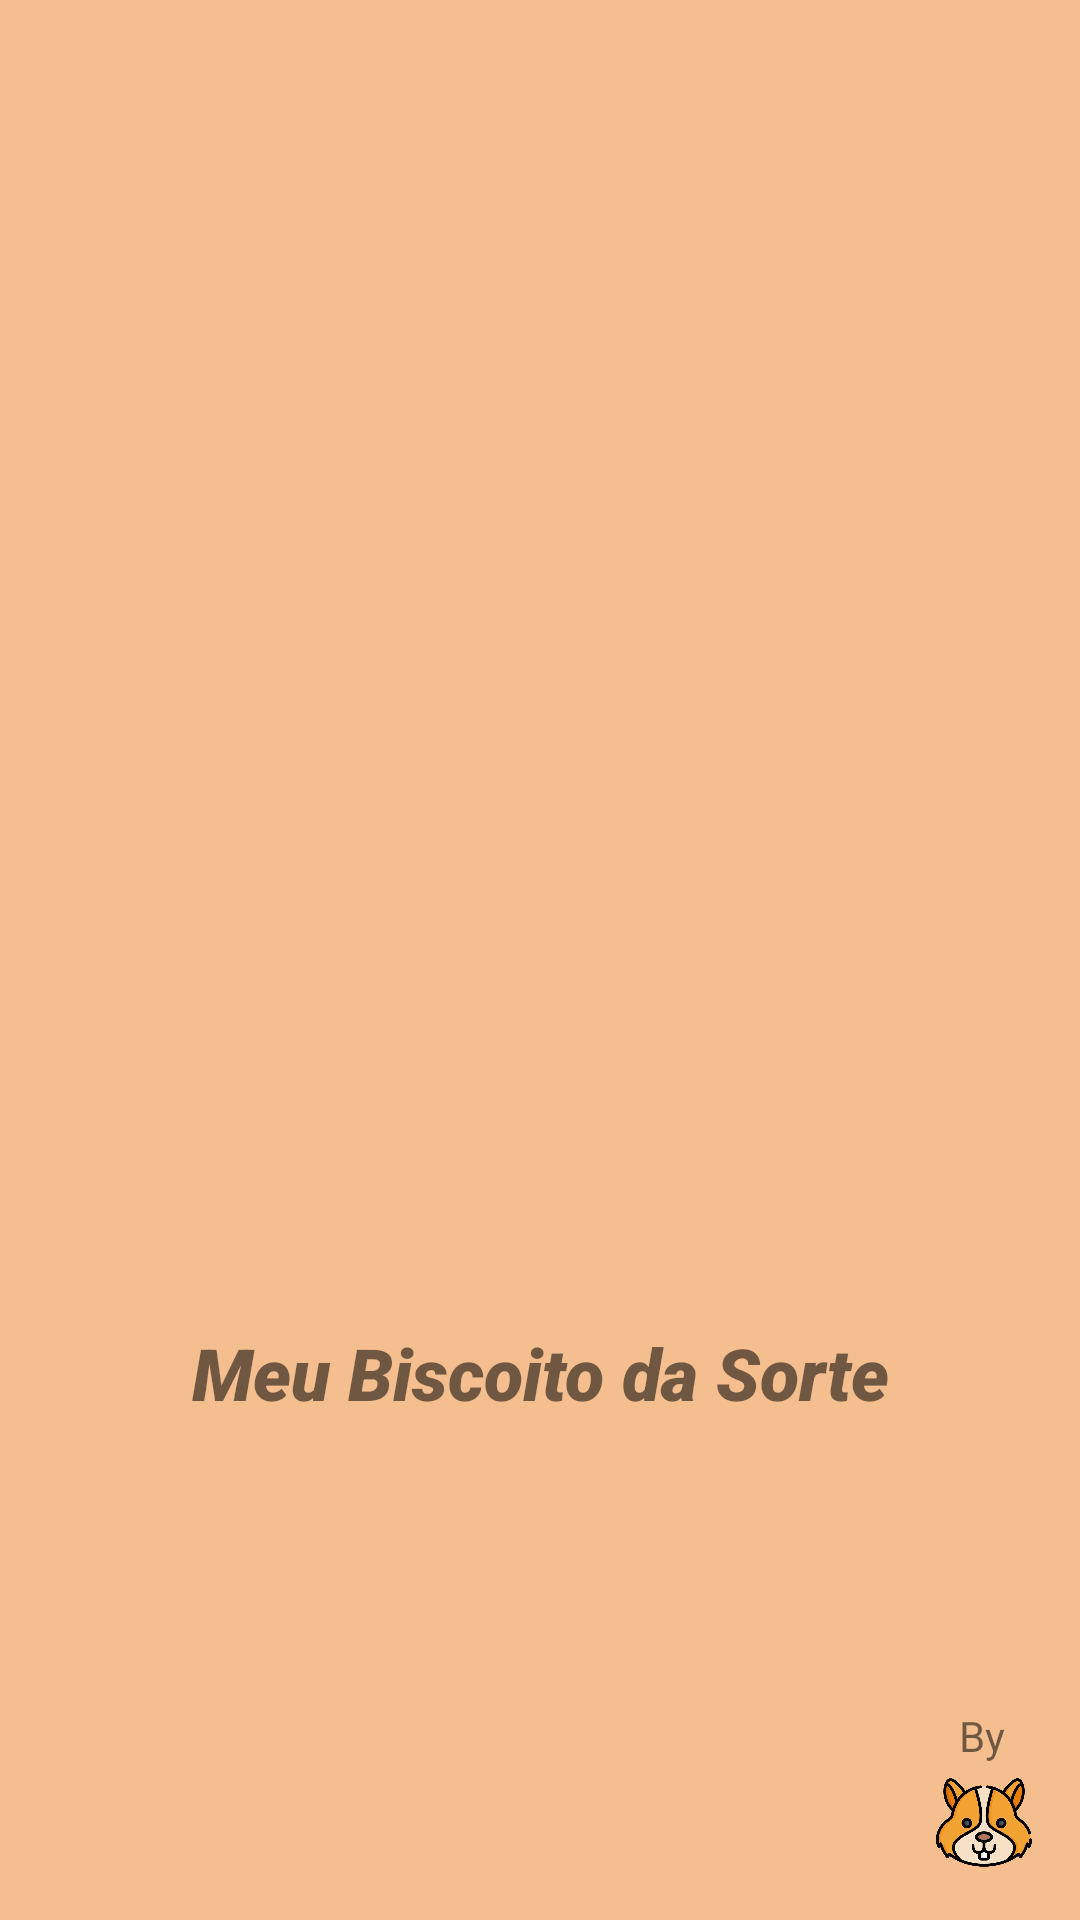

Locate icon controls on the screen. Image size 1080w x 1920h, boxes as (x1, y1, x2, y2).
hamster: (936, 1778, 1032, 1867)
